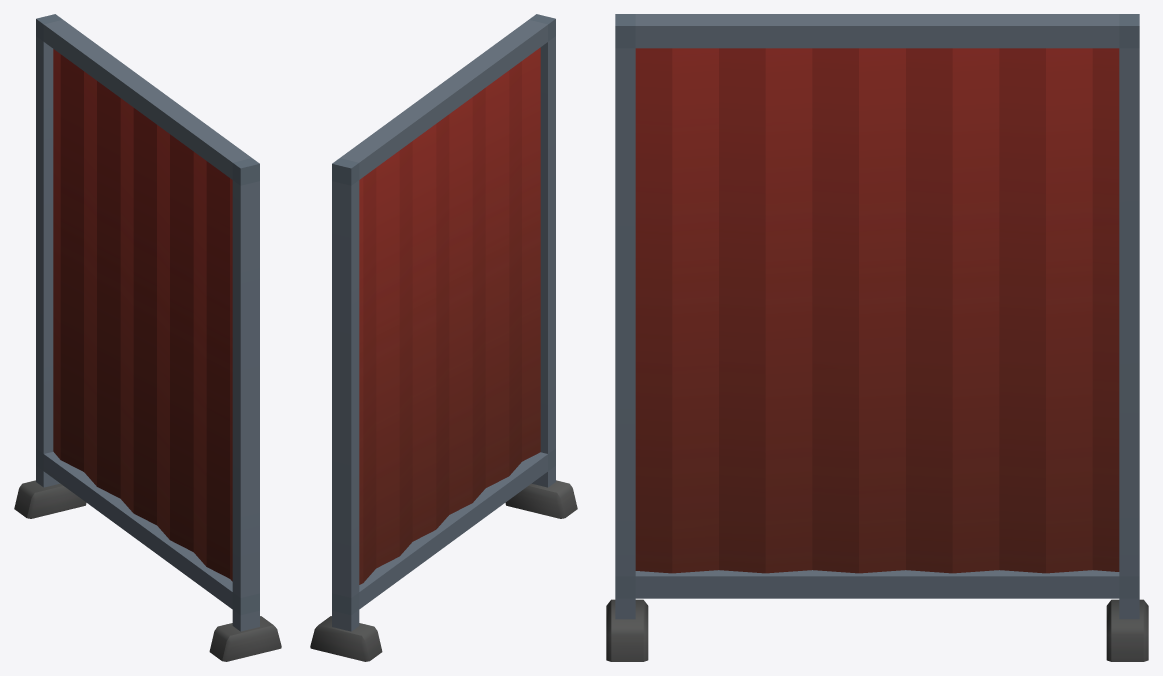
Rendered from Barier_2_6.glb.
3 views of the same model, side by side, from view 1: azimuth 30°, elevation 25°; view 2: azimuth 150°, elevation 25°; view 3: azimuth 270°, elevation 25° (orthographic). The views are drawn at different scales.
Parts seen in each view (by area): view 1: Barier_2_6; view 2: Barier_2_6; view 3: Barier_2_6.
Part boxes in pixels (x1,y1,x2,y2): Barier_2_6: (14, 14, 281, 661); Barier_2_6: (310, 14, 577, 661); Barier_2_6: (606, 14, 1148, 661).
Size of the model in its own units: 0.3435 by 2.68 by 2.11.
Materials: 2 (2 with a texture image).
